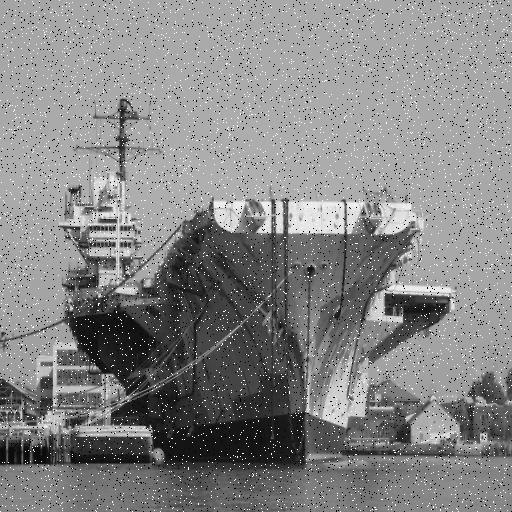Portanaves: (55, 88, 458, 473)
